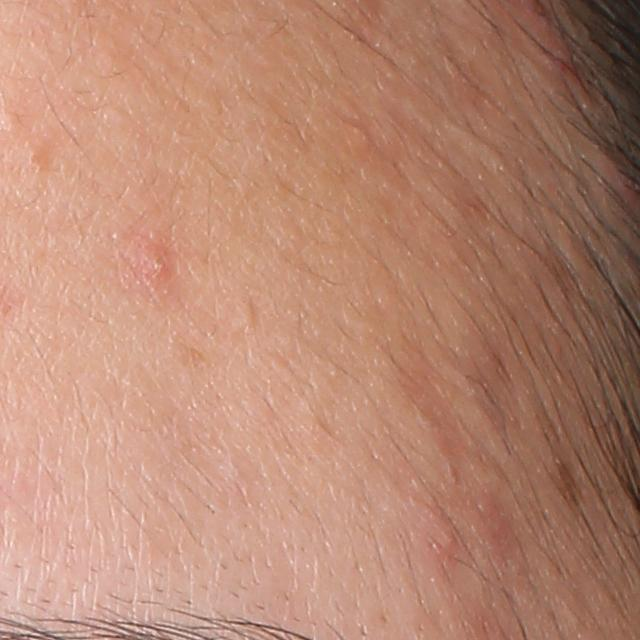comedo: (236, 301, 257, 333)
papule: (128, 238, 175, 285)
